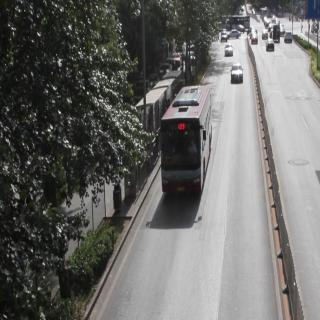BigCar: (161, 84, 213, 200)
Car: (229, 61, 246, 89), (265, 38, 275, 54), (284, 28, 294, 44), (228, 29, 242, 40), (224, 43, 235, 56), (251, 34, 260, 46), (220, 30, 228, 43)
